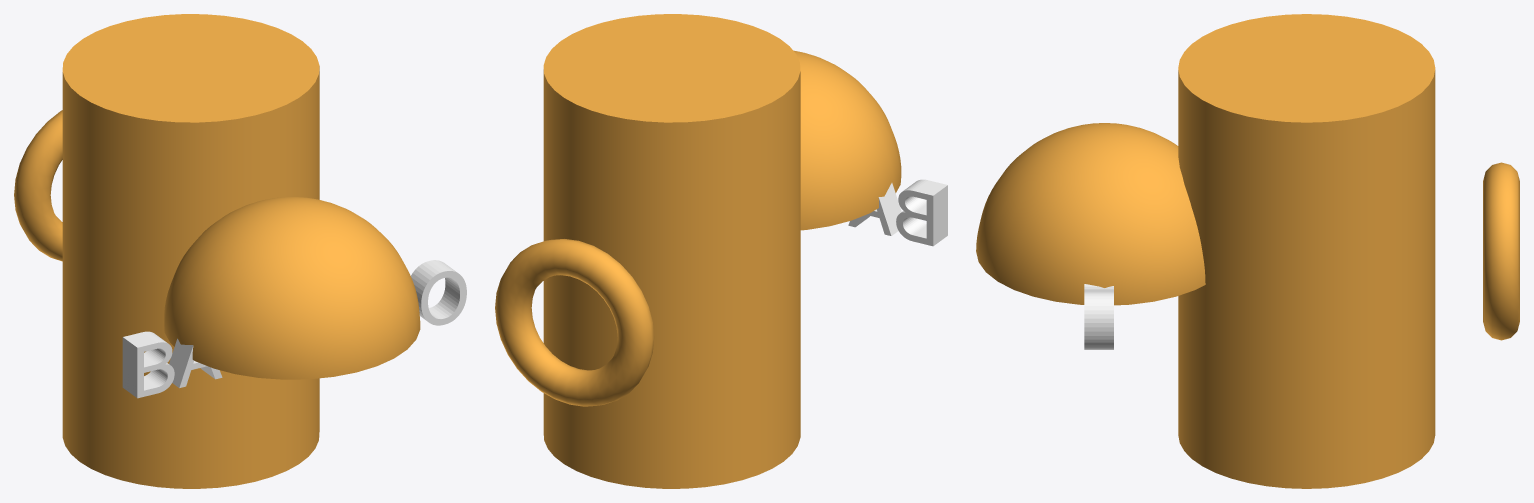
Rendered from 3d-pencil-topper.glb.
3 renders of one model, left to right at view 1: azimuth 30°, elevation 25°; view 2: azimuth 150°, elevation 25°; view 3: azimuth 270°, elevation 25°, orthographic.
Bounding box in the file's own units: 20.7 × 22 × 29.6.
